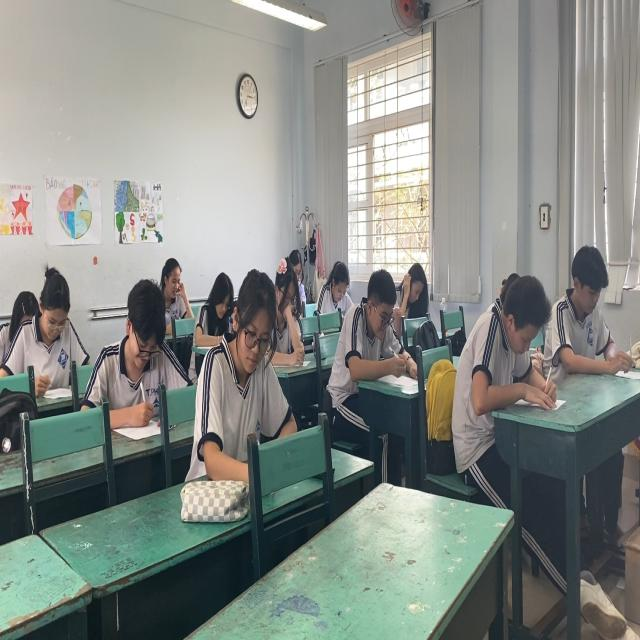not_cheating: (219, 268, 287, 430), (548, 233, 626, 371), (474, 265, 548, 402), (106, 278, 174, 420), (19, 265, 87, 381), (348, 266, 404, 361), (270, 254, 309, 364), (153, 247, 190, 330), (389, 254, 431, 309), (319, 258, 355, 309), (208, 268, 235, 319)
